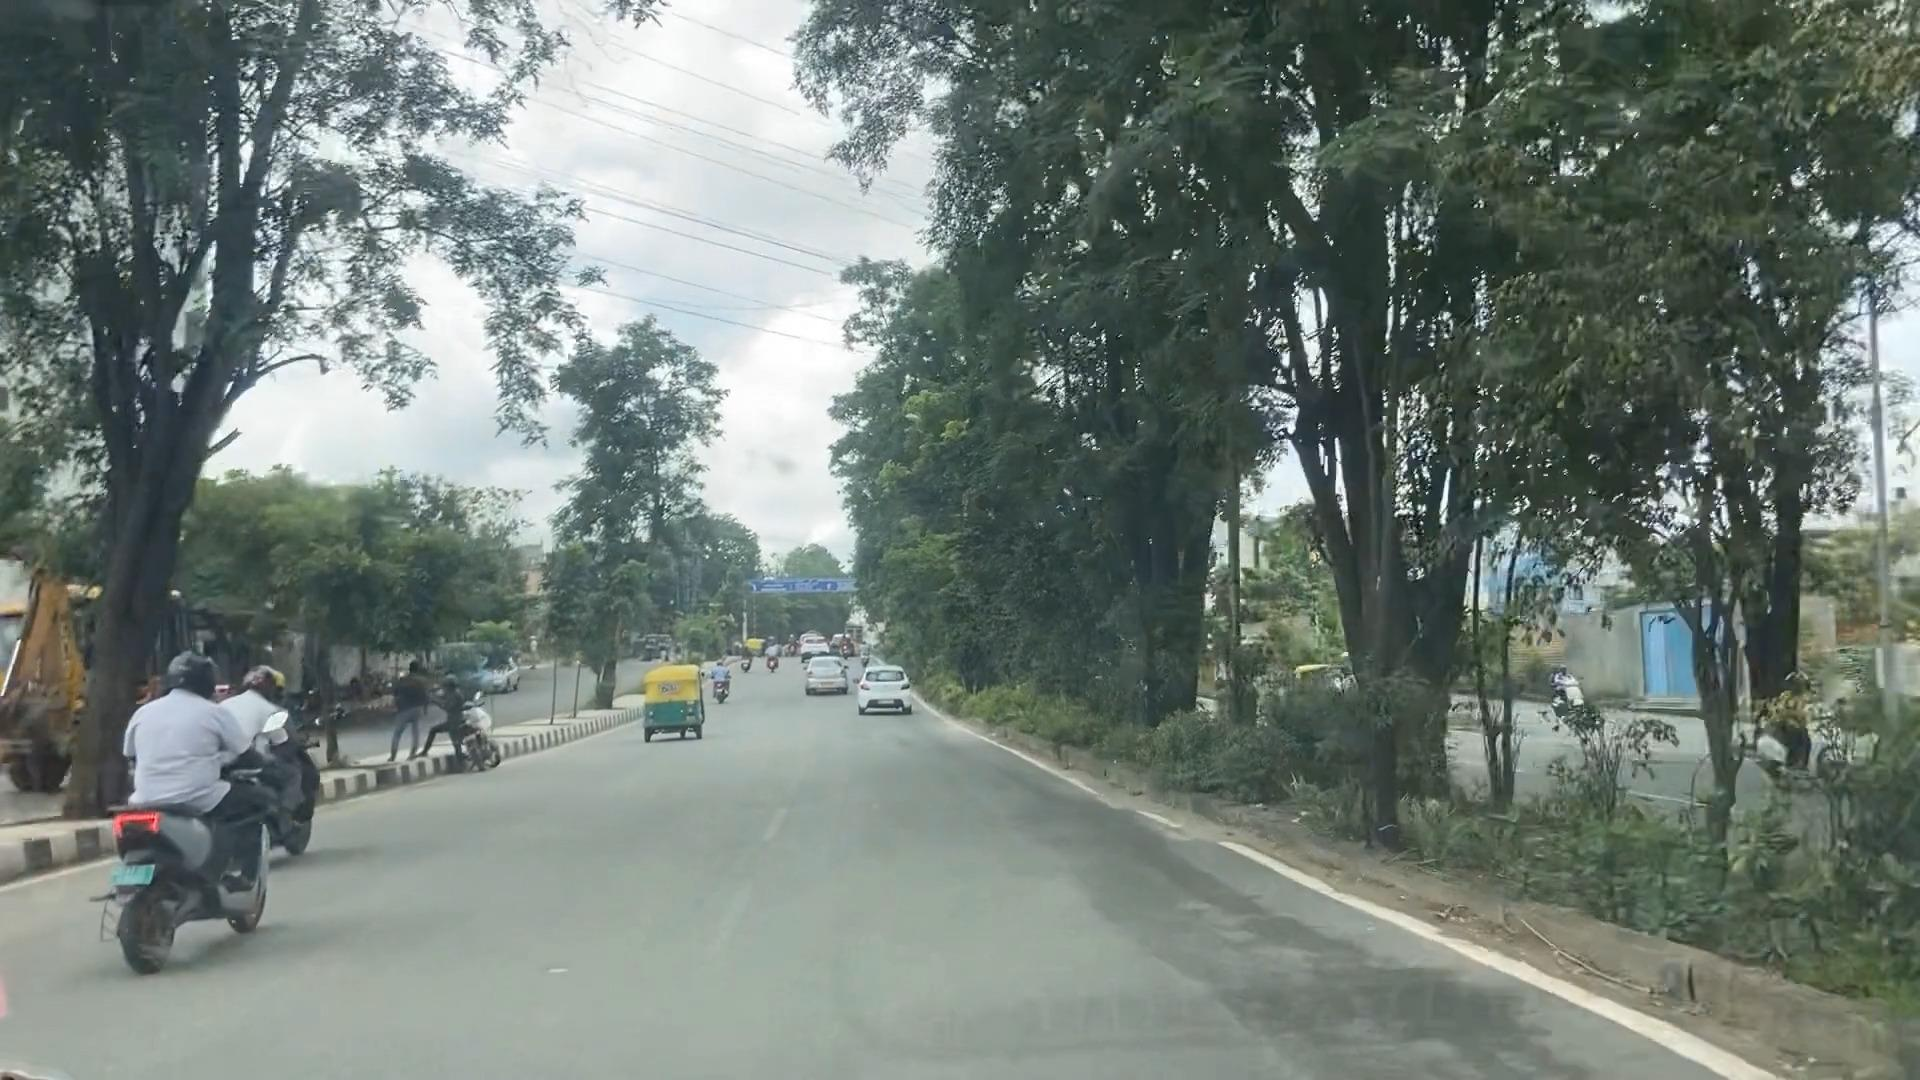LMV: (102, 658, 269, 920), (650, 658, 724, 748), (860, 666, 913, 713), (804, 654, 849, 700)
RoadDamages: (1324, 930, 1552, 1072), (1015, 767, 1251, 895), (1154, 924, 1261, 1029)
